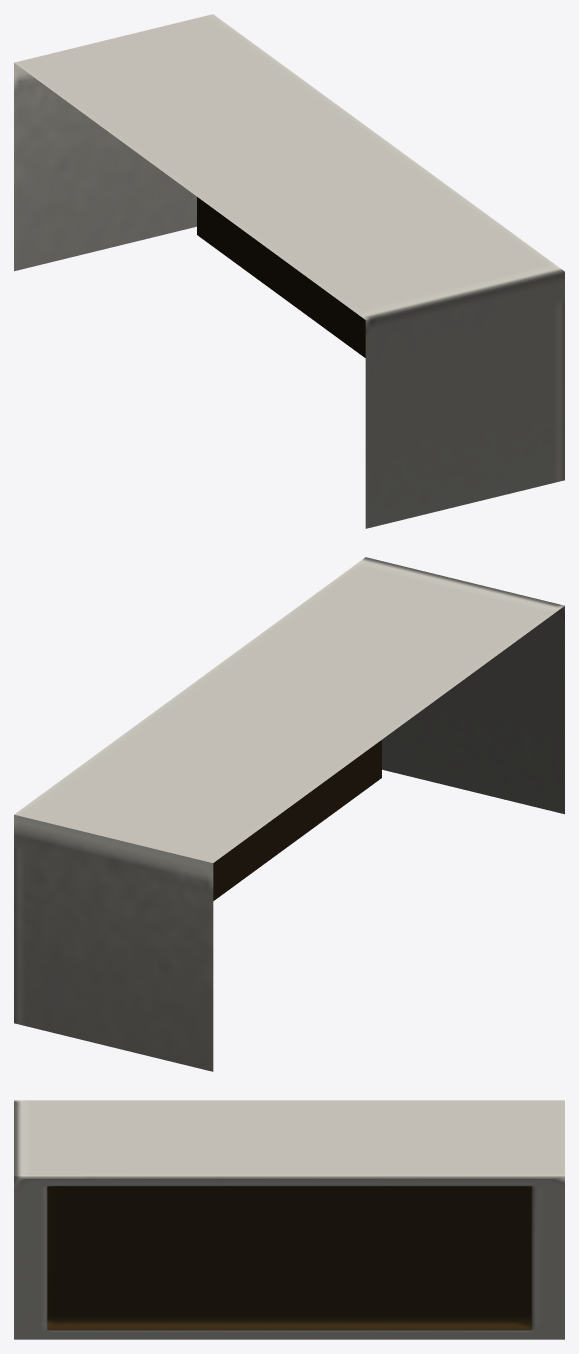
File: Tx_prop_counter_1.fbx
3 renders of one model, top to bottom at view 1: azimuth 30°, elevation 25°; view 2: azimuth 150°, elevation 25°; view 3: azimuth 270°, elevation 25°, orthographic. The views are drawn at different scales.
Parts seen in each view (by area): view 1: polySurface21; view 2: polySurface21; view 3: polySurface21.
Part boxes in pixels (x1,y1,x2,y2): polySurface21: [14, 14, 564, 528]; polySurface21: [14, 557, 564, 1071]; polySurface21: [14, 1100, 564, 1339].
Bounding box in the file's own units: 3.61 × 3.61 × 11.05.
